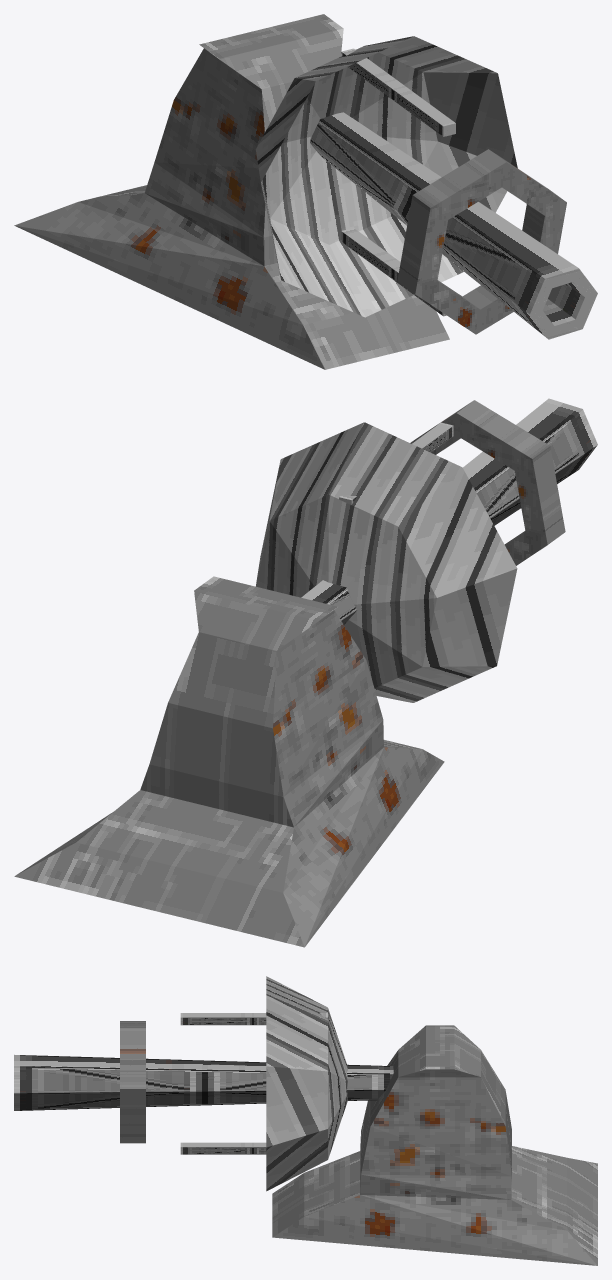
File: gnturet.obj
3 renders of one model, top to bottom at view 1: azimuth 30°, elevation 25°; view 2: azimuth 150°, elevation 25°; view 3: azimuth 270°, elevation 25°, orthographic. The views are drawn at different scales.
Bounding box in the file's own units: 1.66 × 1.72 × 4.
Materials: 4 (4 with a texture image).
